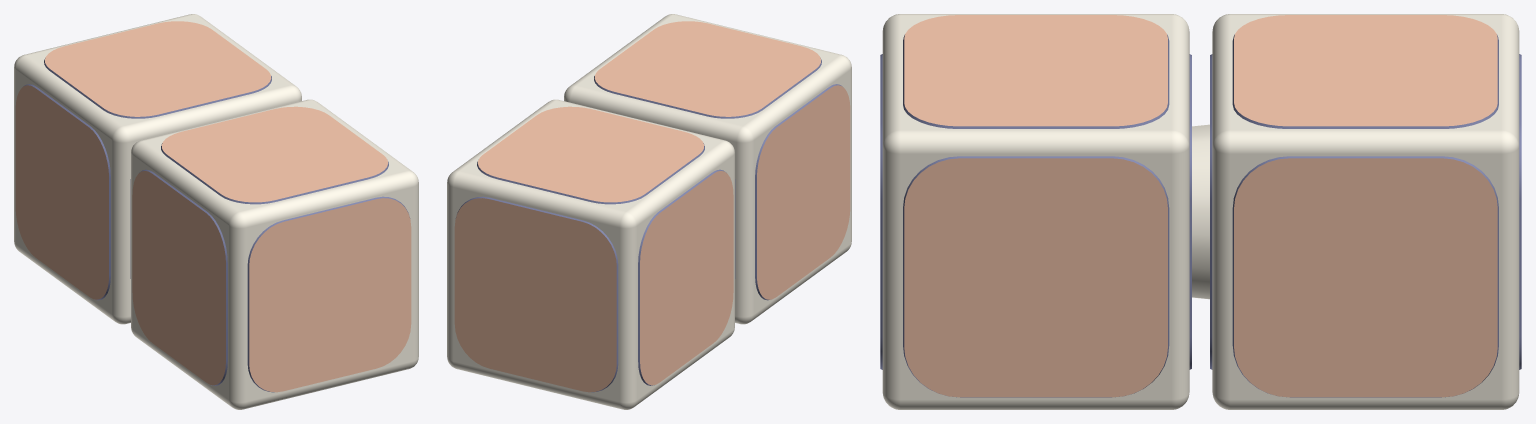
The model's file is R4C_STRUT_SHORT.fbx.
The picture shows the model from 3 angles, left to right: view 1: azimuth 30°, elevation 25°; view 2: azimuth 150°, elevation 25°; view 3: azimuth 270°, elevation 25°; orthographic projection. The views are drawn at different scales.
Visible parts, largest first — view 1: R4C_STRUT_SHORT; view 2: R4C_STRUT_SHORT; view 3: R4C_STRUT_SHORT.
Boxes of the visible parts, box(x1,y1,x2,y2) form: R4C_STRUT_SHORT: box(14, 14, 418, 409); R4C_STRUT_SHORT: box(447, 14, 851, 409); R4C_STRUT_SHORT: box(880, 14, 1521, 409).
Size of the model in its own units: 0.52 by 0.52 by 1.07.
